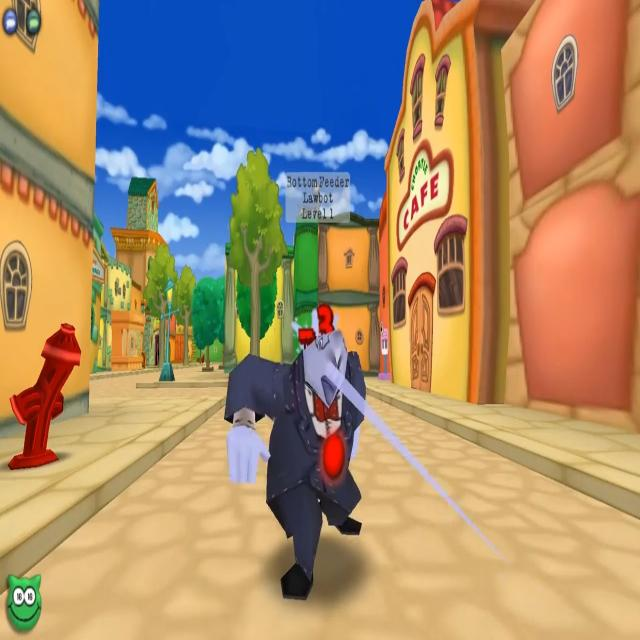bottomfeeder: (224, 164, 367, 598)
